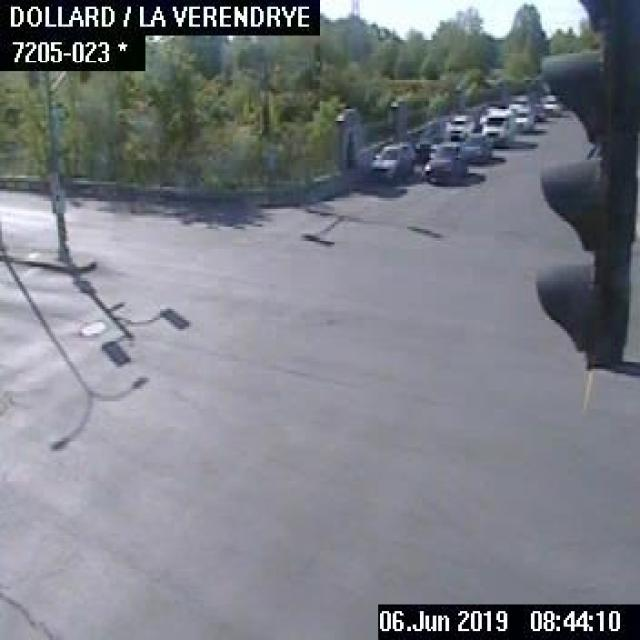vehicle: (362, 141, 415, 182), (422, 139, 466, 184), (479, 108, 510, 146), (460, 132, 492, 164), (444, 112, 472, 140), (510, 104, 535, 134), (538, 91, 562, 114), (530, 101, 544, 119)
